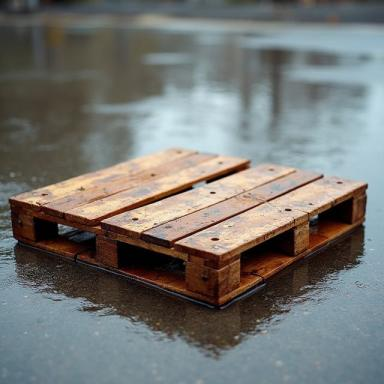pallet: (8, 146, 369, 307), (130, 245, 186, 276)
